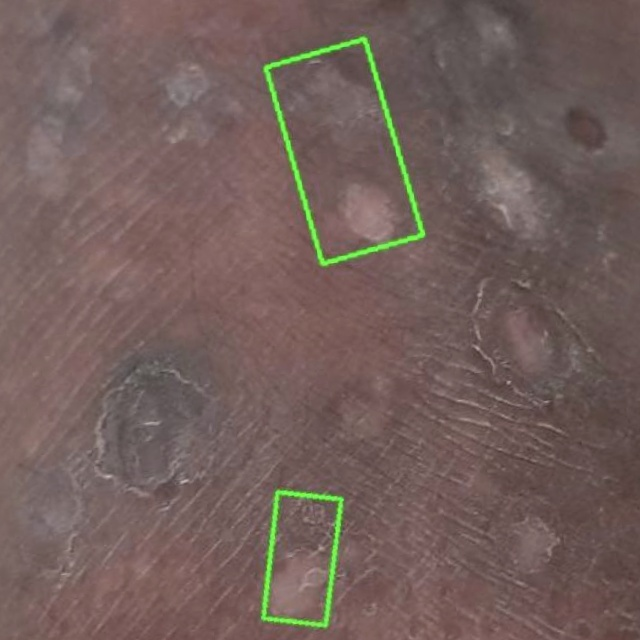Contact Dermatitis: (266, 37, 422, 263), (263, 492, 341, 625)
